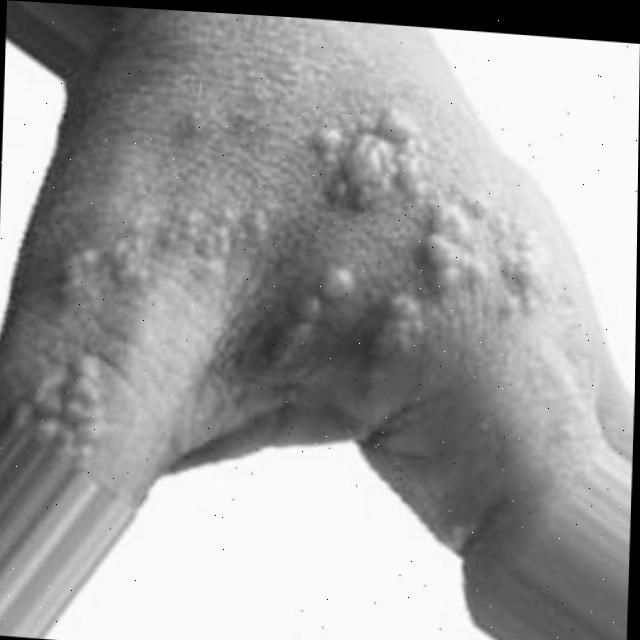Shingles: (244, 95, 549, 424), (13, 188, 222, 463)
